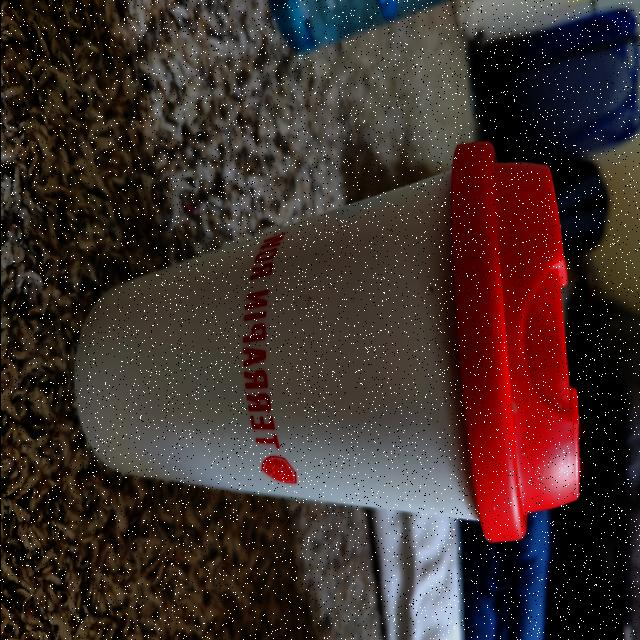mug: (78, 141, 579, 534)
